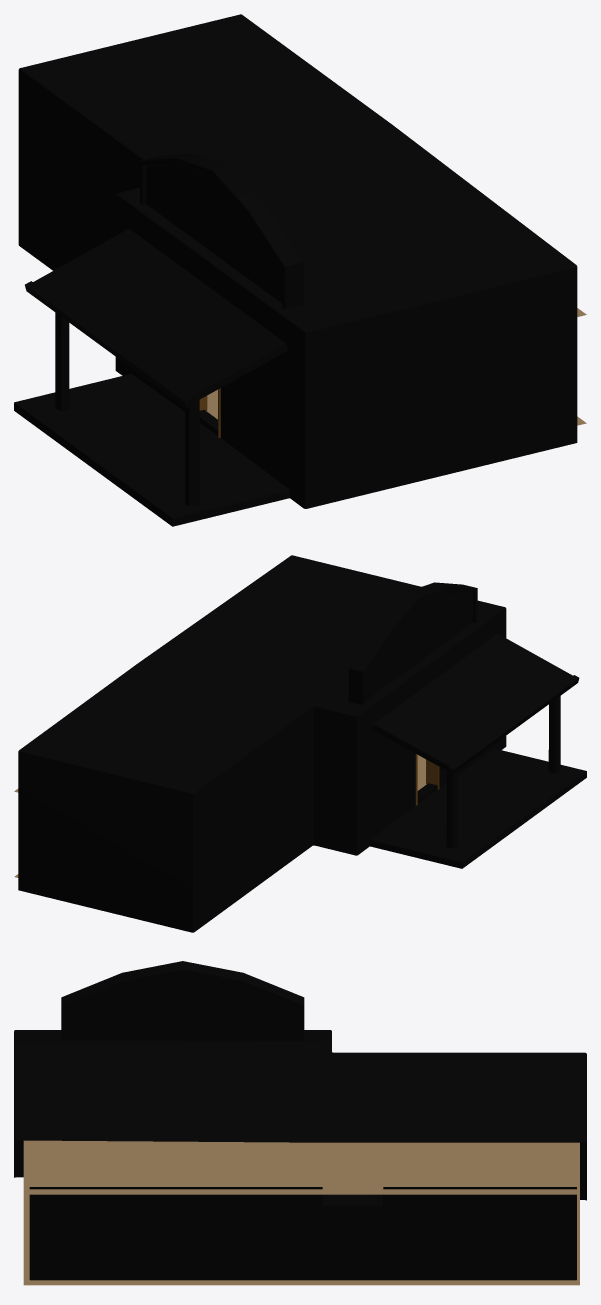
Rendered from Bank_model.fbx.
3 views of the same model, one above another, from view 1: azimuth 30°, elevation 25°; view 2: azimuth 150°, elevation 25°; view 3: azimuth 270°, elevation 25° (orthographic). The views are drawn at different scales.
Visible parts, largest first — view 1: Bank_Building; view 2: Bank_Building; view 3: Bank_Building.
Boxes of the visible parts, <box> form: Bank_Building: <box>14,14,586,526</box>; Bank_Building: <box>14,555,586,932</box>; Bank_Building: <box>14,961,586,1285</box>.
Bounding box in the file's own units: 69.06 × 42.85 × 101.
